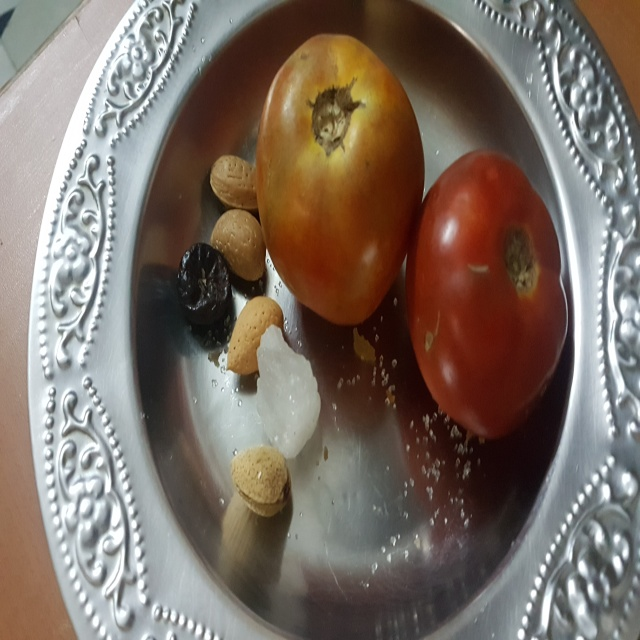tomato: (240, 27, 444, 335), (405, 140, 585, 453)
